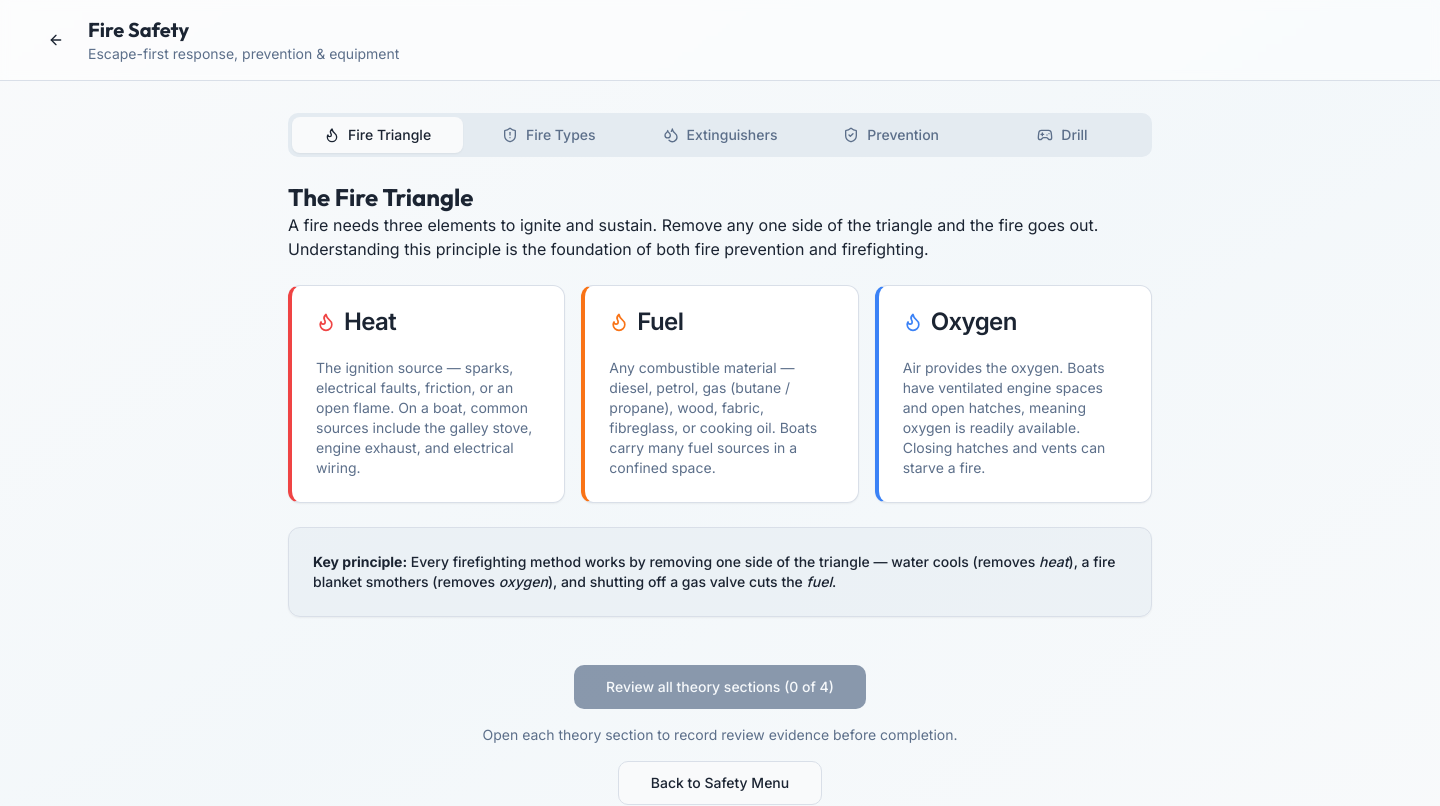
it: FireSafetyTheory Page › should display extinguisher types when clicking the Extinguishers tab
The image size is (1440, 806).
Click the tab "Extinguishers" at (720, 135), box [634,117,806,153]
(page scrolled)
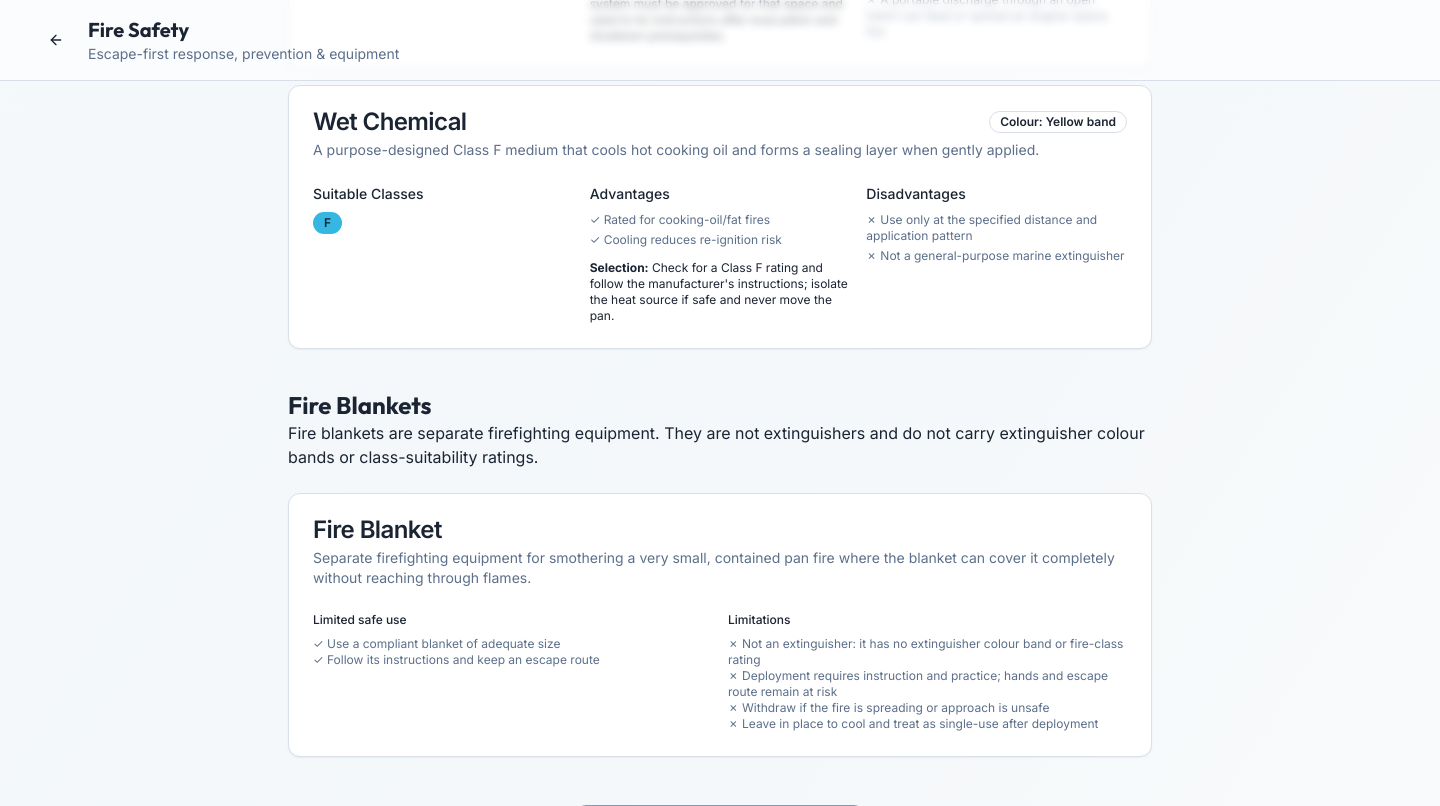
Expected: the text "Fire Blanket" is shown, [313,515,442,544]
Expected: the heading "Fire Blankets" is shown, [288,390,432,420]
